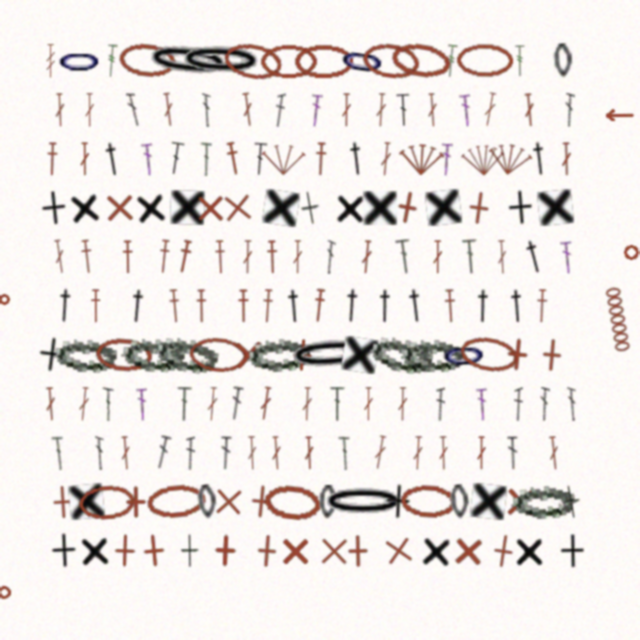chain: (144, 40, 232, 82), (287, 335, 374, 374), (178, 42, 264, 79), (367, 332, 435, 377), (321, 485, 406, 519), (153, 333, 220, 376), (221, 39, 284, 83), (389, 39, 452, 82), (457, 333, 520, 376), (246, 335, 311, 374), (360, 40, 421, 81), (145, 482, 207, 521), (262, 482, 322, 522), (117, 41, 178, 80), (121, 336, 185, 373), (511, 483, 575, 520), (188, 335, 248, 374), (53, 337, 117, 373), (94, 336, 154, 374), (77, 483, 137, 521), (399, 483, 458, 520), (401, 338, 464, 372), (337, 41, 388, 81), (294, 44, 353, 78), (456, 43, 513, 78), (260, 44, 318, 78), (440, 337, 488, 373), (56, 44, 103, 78), (196, 484, 218, 519), (449, 484, 470, 519), (553, 43, 573, 78), (319, 485, 337, 519)
double: (395, 239, 414, 274), (167, 141, 185, 176), (154, 435, 172, 470), (462, 239, 479, 274), (482, 92, 498, 127), (372, 435, 388, 470), (252, 142, 268, 176), (161, 92, 176, 127), (240, 92, 255, 127), (52, 239, 67, 274), (229, 386, 244, 421), (258, 386, 273, 421), (396, 93, 411, 127), (177, 387, 192, 421), (330, 387, 345, 421), (126, 92, 140, 127), (309, 93, 323, 127), (459, 93, 473, 127), (522, 93, 536, 127), (141, 142, 155, 176), (379, 142, 393, 176), (560, 240, 574, 274), (77, 387, 91, 421), (51, 436, 65, 470), (547, 436, 561, 470), (426, 93, 439, 127), (199, 142, 212, 176), (440, 142, 453, 176), (360, 240, 373, 274), (44, 387, 57, 421), (206, 387, 219, 421), (119, 436, 132, 470), (270, 436, 283, 470), (54, 93, 66, 127), (274, 93, 286, 127), (375, 93, 387, 127), (563, 93, 575, 127), (324, 240, 336, 274), (496, 240, 508, 274), (102, 387, 114, 421), (136, 387, 148, 421), (301, 387, 313, 421), (476, 387, 488, 421), (538, 387, 550, 421), (220, 436, 232, 470), (246, 436, 258, 470), (303, 436, 315, 470), (338, 436, 350, 470), (412, 436, 424, 470), (507, 436, 519, 470), (84, 93, 95, 127), (341, 93, 352, 127), (79, 142, 90, 176), (561, 142, 572, 176), (242, 240, 253, 274), (292, 240, 303, 274), (432, 240, 443, 274), (363, 387, 374, 421), (397, 387, 408, 421), (438, 436, 449, 470), (476, 436, 487, 470), (567, 387, 577, 421), (202, 93, 211, 127), (436, 387, 445, 421), (514, 387, 523, 421), (95, 436, 104, 470), (186, 436, 195, 470)
enseble_chain: (604, 286, 632, 354)
fan: (485, 138, 535, 179), (398, 141, 445, 177), (460, 141, 506, 177), (261, 141, 306, 176)
half_double: (521, 238, 547, 275), (101, 141, 124, 177), (126, 288, 149, 324), (54, 288, 76, 323), (341, 288, 363, 323), (346, 141, 367, 176), (529, 141, 550, 176), (405, 288, 426, 323), (284, 289, 304, 323), (375, 289, 395, 323), (473, 289, 493, 323), (507, 289, 527, 323), (175, 239, 194, 274), (224, 141, 242, 176), (79, 239, 95, 274), (156, 239, 172, 274), (311, 288, 327, 323), (167, 289, 182, 323), (260, 289, 275, 323), (45, 142, 59, 176), (314, 142, 328, 176), (213, 240, 227, 274), (265, 240, 279, 274), (443, 289, 457, 323), (535, 289, 549, 323), (121, 240, 134, 274), (89, 289, 102, 323), (195, 289, 208, 323), (237, 289, 250, 323)
noise: (603, 109, 634, 121), (622, 243, 640, 261), (0, 584, 12, 600), (0, 293, 10, 305)
single: (388, 188, 427, 227), (379, 531, 418, 570), (262, 189, 300, 227), (460, 189, 498, 227), (341, 336, 379, 374), (484, 532, 522, 570), (219, 189, 256, 226), (425, 189, 462, 226), (537, 189, 574, 226), (499, 336, 536, 373), (68, 483, 105, 520), (243, 483, 280, 520), (470, 483, 507, 520), (135, 532, 172, 569), (284, 337, 320, 373), (534, 337, 570, 373), (45, 484, 81, 520), (249, 533, 285, 569), (450, 533, 486, 569), (68, 189, 102, 226), (134, 189, 168, 226), (102, 190, 137, 225), (170, 190, 205, 225), (231, 337, 266, 372), (211, 484, 246, 519), (503, 484, 538, 519), (107, 533, 142, 568), (208, 533, 243, 568), (420, 533, 453, 569), (193, 191, 227, 225), (363, 191, 397, 225), (119, 485, 153, 519), (278, 534, 312, 568), (317, 534, 351, 568), (341, 534, 375, 568), (79, 533, 111, 568), (36, 336, 66, 373), (335, 191, 366, 225), (514, 534, 545, 568), (39, 190, 68, 226), (506, 190, 534, 225), (384, 484, 411, 519), (50, 533, 77, 568), (559, 534, 585, 568), (299, 190, 322, 226), (560, 484, 583, 520), (181, 534, 199, 568)
treble: (444, 44, 459, 78), (105, 44, 118, 78), (514, 44, 526, 78), (45, 44, 56, 78)
